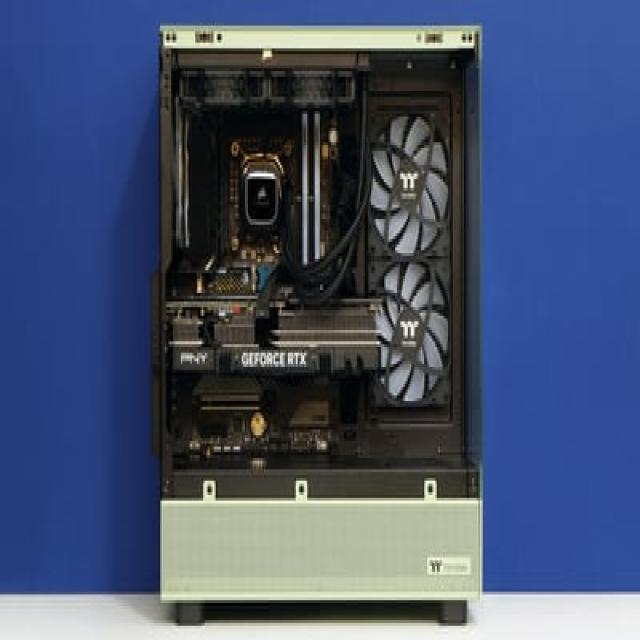electronics: (152, 26, 478, 620), (368, 108, 450, 401), (368, 114, 445, 253), (376, 262, 445, 401), (242, 154, 280, 230)
